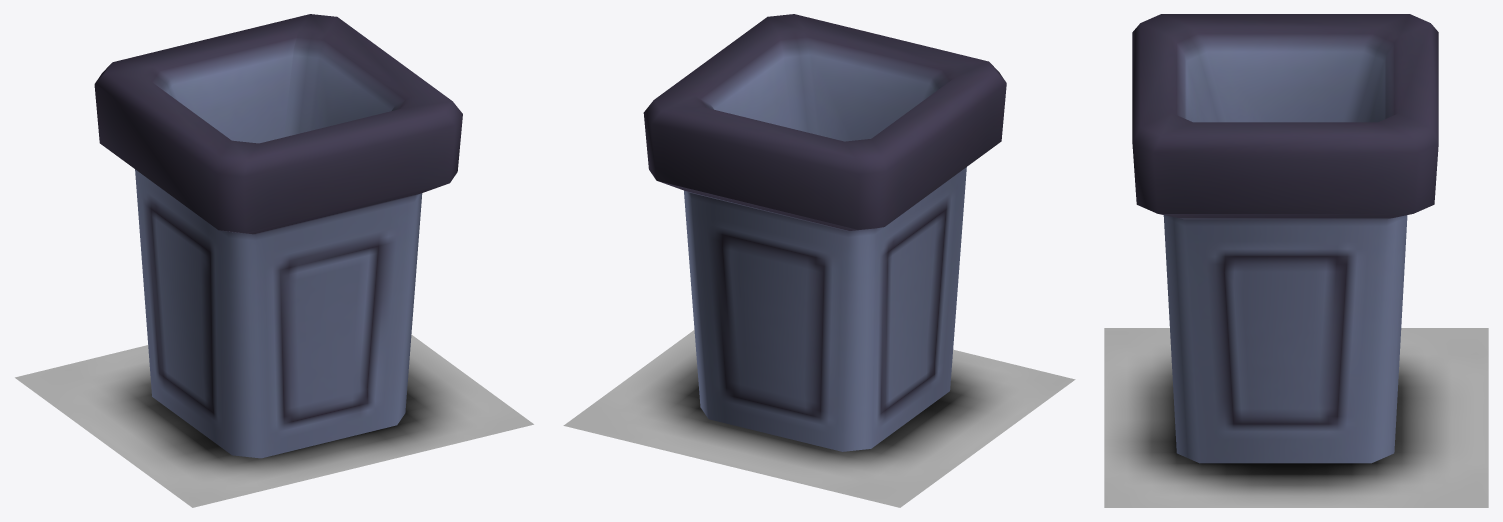
The model's file is Amphitheatre_Item_TrashCan.FBX.
3 views of the same model, side by side, from view 1: azimuth 30°, elevation 25°; view 2: azimuth 150°, elevation 25°; view 3: azimuth 270°, elevation 25° (orthographic). The views are drawn at different scales.
Visible parts, largest first — view 1: Amphitheatre_Item_TrashCan, Amphitheatre_Shadow_TrashCan; view 2: Amphitheatre_Item_TrashCan, Amphitheatre_Shadow_TrashCan; view 3: Amphitheatre_Item_TrashCan, Amphitheatre_Shadow_TrashCan.
Part boxes in pixels (x1=…): Amphitheatre_Item_TrashCan: x1=94, y1=14, x2=462, y2=458; Amphitheatre_Shadow_TrashCan: x1=15, y1=334, x2=533, y2=507; Amphitheatre_Item_TrashCan: x1=643, y1=14, x2=1006, y2=451; Amphitheatre_Shadow_TrashCan: x1=563, y1=330, x2=1075, y2=507; Amphitheatre_Item_TrashCan: x1=1132, y1=14, x2=1438, y2=463; Amphitheatre_Shadow_TrashCan: x1=1104, y1=328, x2=1488, y2=507.
Size of the model in its own units: 0.6761 by 0.6072 by 0.6101.
2 materials, 2 textured.
